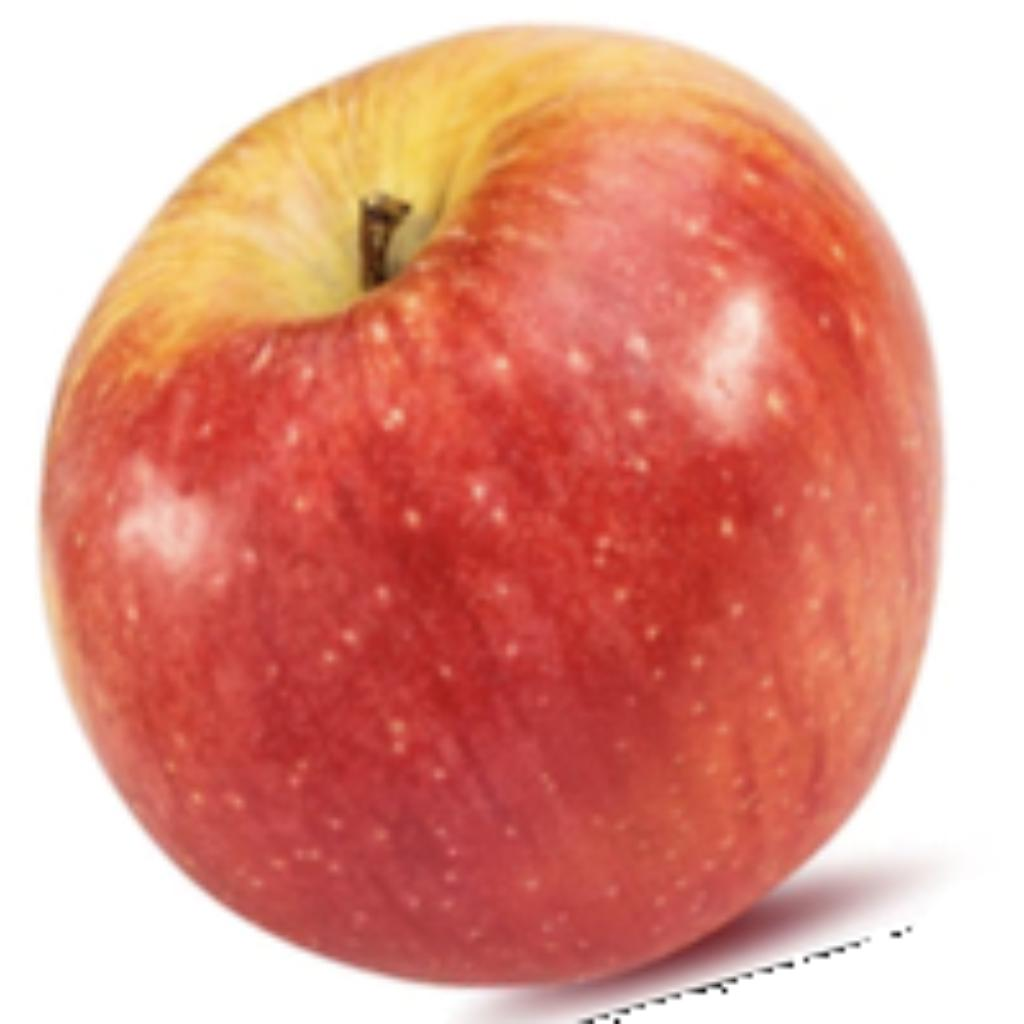apple: (31, 15, 952, 1019)
